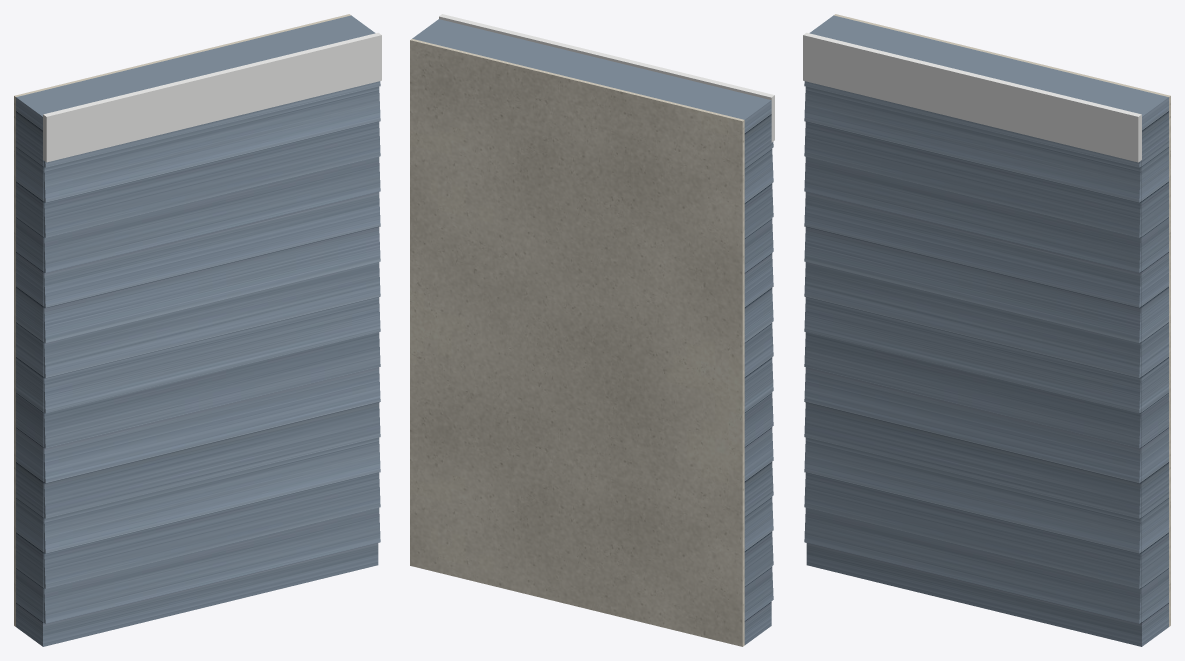
The model's file is wall_siding_upper_plain.glb.
The picture shows the model from 3 angles, left to right: view 1: azimuth 30°, elevation 25°; view 2: azimuth 150°, elevation 25°; view 3: azimuth 330°, elevation 25°; orthographic projection.
Visible parts, largest first — view 1: wall_siding_upper_plain_siding, wall_siding_upper_plain_trim, wall_siding_upper_plain_plaster; view 2: wall_siding_upper_plain_plaster, wall_siding_upper_plain_siding, wall_siding_upper_plain_trim; view 3: wall_siding_upper_plain_siding, wall_siding_upper_plain_trim, wall_siding_upper_plain_plaster.
Part boxes in pixels (box(x1,y1,x2,y2)): wall_siding_upper_plain_siding: box(16, 15, 380, 646); wall_siding_upper_plain_trim: box(43, 32, 381, 162); wall_siding_upper_plain_plaster: box(14, 14, 350, 626); wall_siding_upper_plain_plaster: box(410, 39, 744, 646); wall_siding_upper_plain_siding: box(412, 19, 773, 644); wall_siding_upper_plain_trim: box(439, 14, 774, 142); wall_siding_upper_plain_siding: box(804, 15, 1168, 646); wall_siding_upper_plain_trim: box(803, 32, 1141, 162); wall_siding_upper_plain_plaster: box(834, 14, 1170, 626).
Size of the model in its own units: 2 by 3.04 by 0.335.
3 materials, 2 textured.
